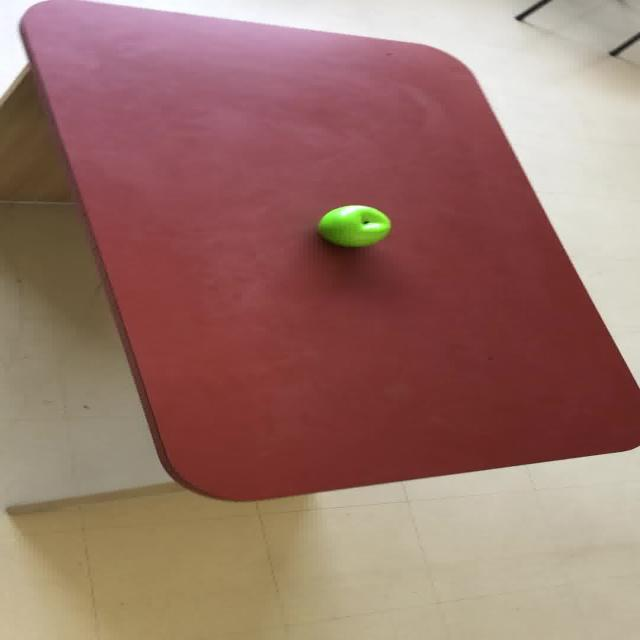apple: (315, 204, 391, 247)
